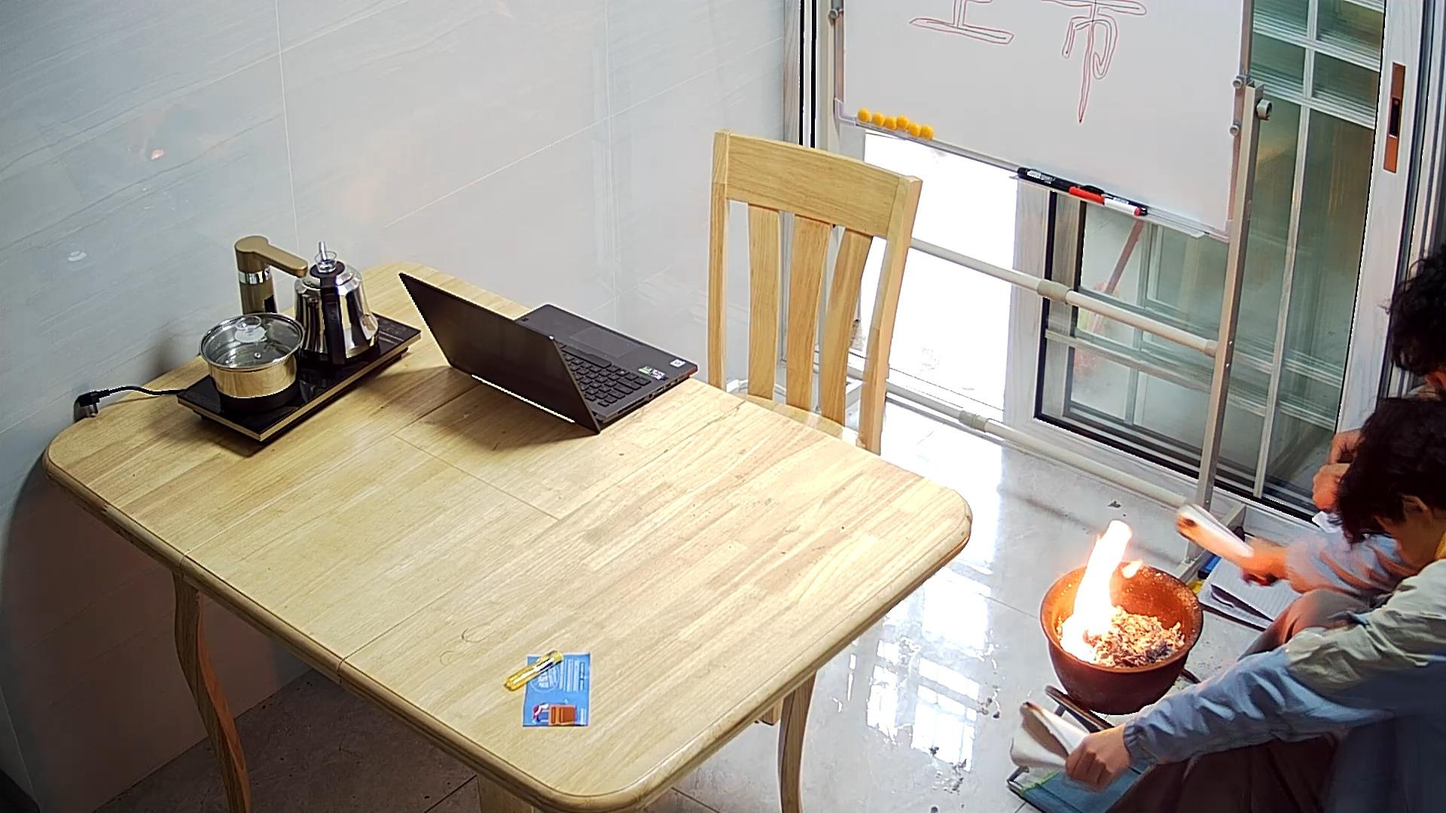fire: (1060, 520, 1145, 664)
